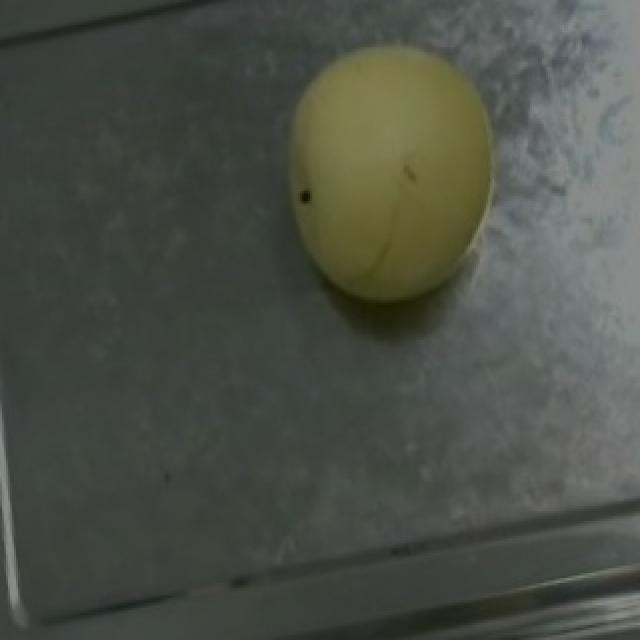Fruit: (244, 7, 524, 330)
